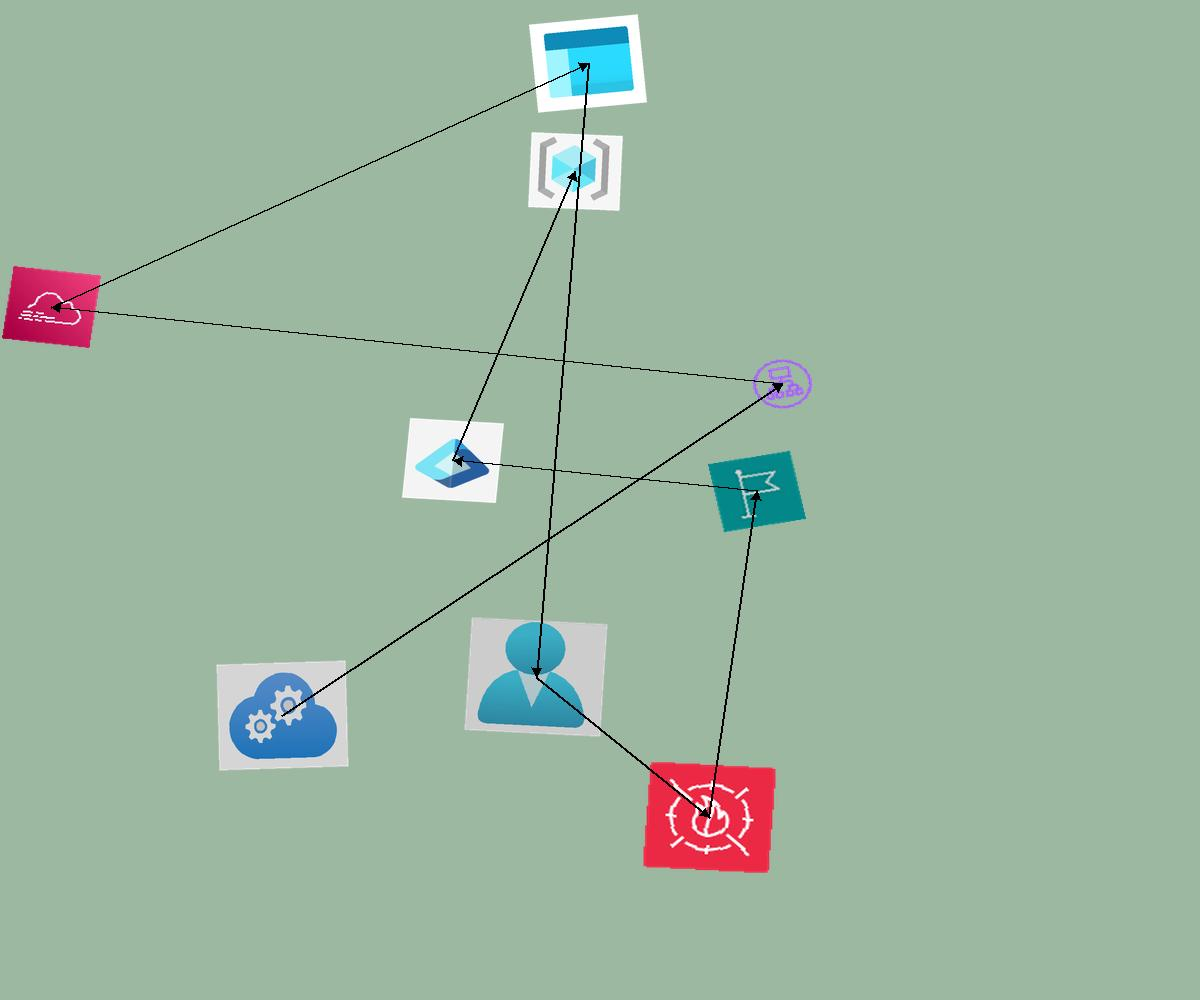AWS-CloudTrail: (2, 266, 101, 348)
AWS-Region: (707, 450, 807, 533)
AWS-Res_Elastic-Load-Balancing_Application-Load-Balancer: (744, 352, 821, 416)
AWS-WAF: (642, 761, 777, 874)
Azure_cloud_services: (216, 660, 349, 771)
Azure_management-portal: (529, 14, 647, 113)
Azure_microsoft_entra: (402, 418, 504, 503)
Azure_resource_group: (528, 132, 623, 211)
Azure_users: (464, 617, 608, 737)
